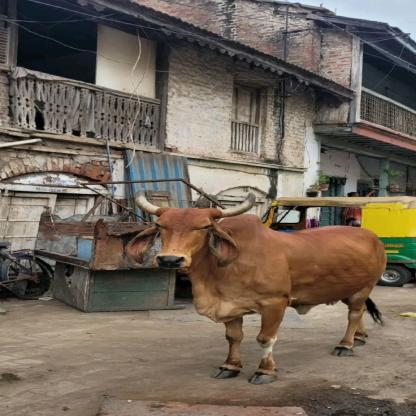cow: (136, 198, 384, 378)
